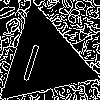I: (19, 34, 46, 83)
